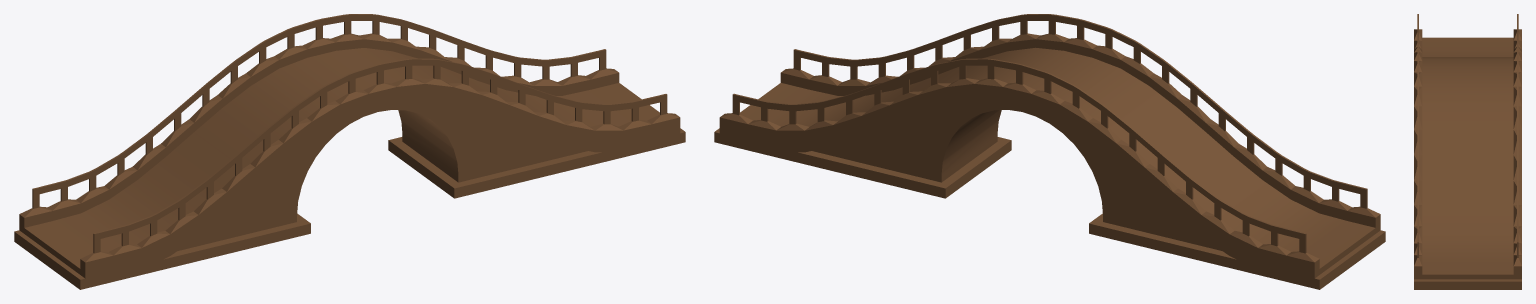
File: bridge_20210127.fbx
3 renders of one model, left to right at view 1: azimuth 30°, elevation 25°; view 2: azimuth 150°, elevation 25°; view 3: azimuth 270°, elevation 25°, orthographic. The views are drawn at different scales.
Parts seen in each view (by area): view 1: bridge_railing; view 2: bridge_railing; view 3: bridge_railing.
Part boxes in pixels (<box>): bridge_railing: <box>14,14,685,289</box>; bridge_railing: <box>714,14,1385,289</box>; bridge_railing: <box>1414,14,1521,289</box>.
Size of the model in its own units: 8.89 by 2.11 by 1.68.
